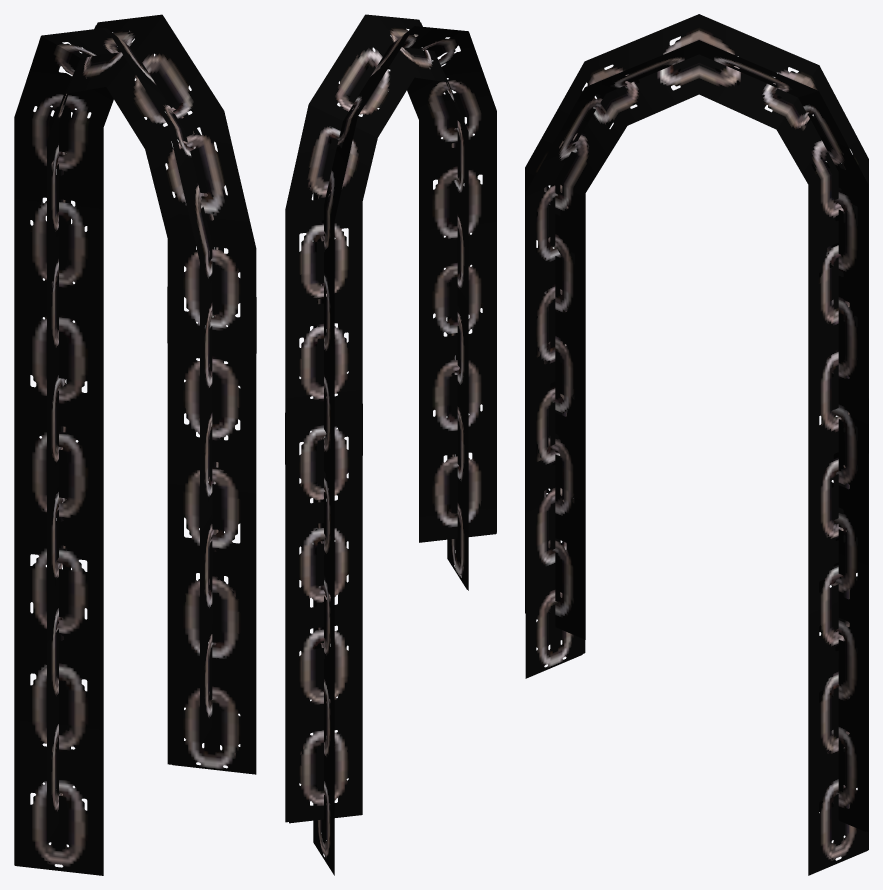
Rendered from chain_pipe02.dae.
The picture shows the model from 3 angles, left to right: view 1: azimuth 30°, elevation 25°; view 2: azimuth 150°, elevation 25°; view 3: azimuth 270°, elevation 25°; orthographic projection. The views are drawn at different scales.
Parts seen in each view (by area): view 1: chain_pipe02; view 2: chain_pipe02; view 3: chain_pipe02.
Boxes of the visible parts, x1,y1,x2,y2 form: chain_pipe02: (14, 14, 256, 875); chain_pipe02: (285, 14, 496, 875); chain_pipe02: (525, 14, 868, 875).
Bounding box in the file's own units: 0.1304 × 2 × 0.745.
